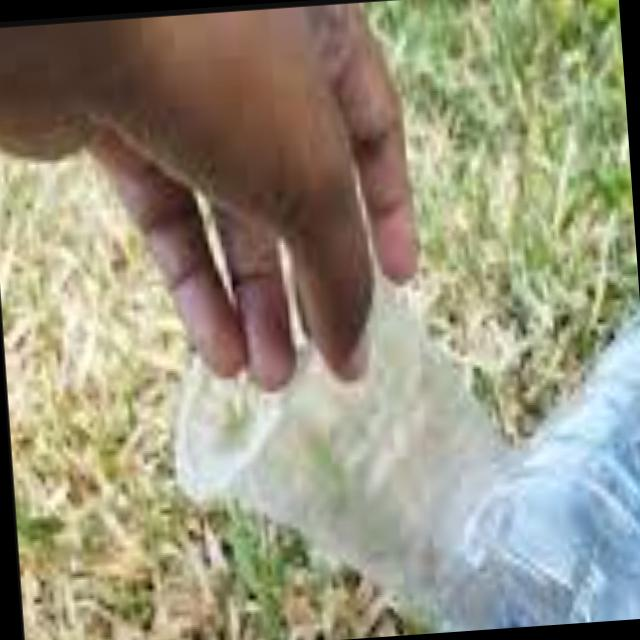GelasPlastik: (134, 234, 520, 616), (420, 300, 640, 623)
